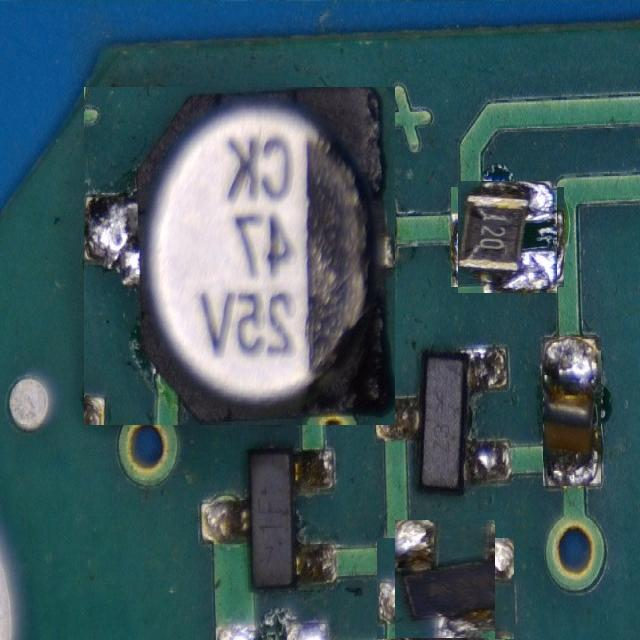Incorrect_installation: (86, 88, 395, 423), (396, 521, 494, 639), (459, 181, 557, 292), (543, 337, 599, 486)
